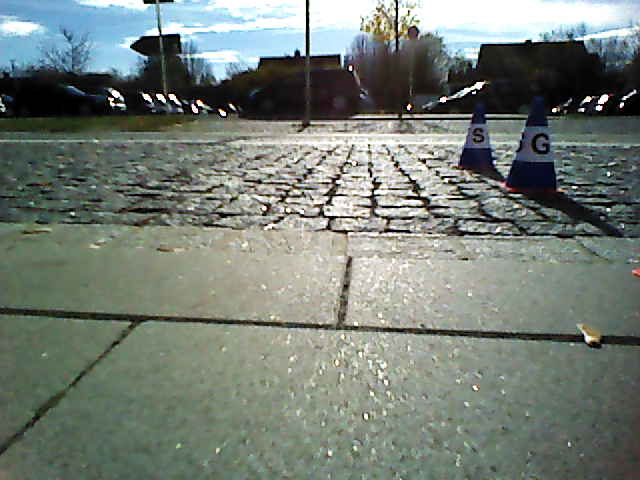bluecone: (507, 98, 556, 189), (459, 103, 492, 165)
